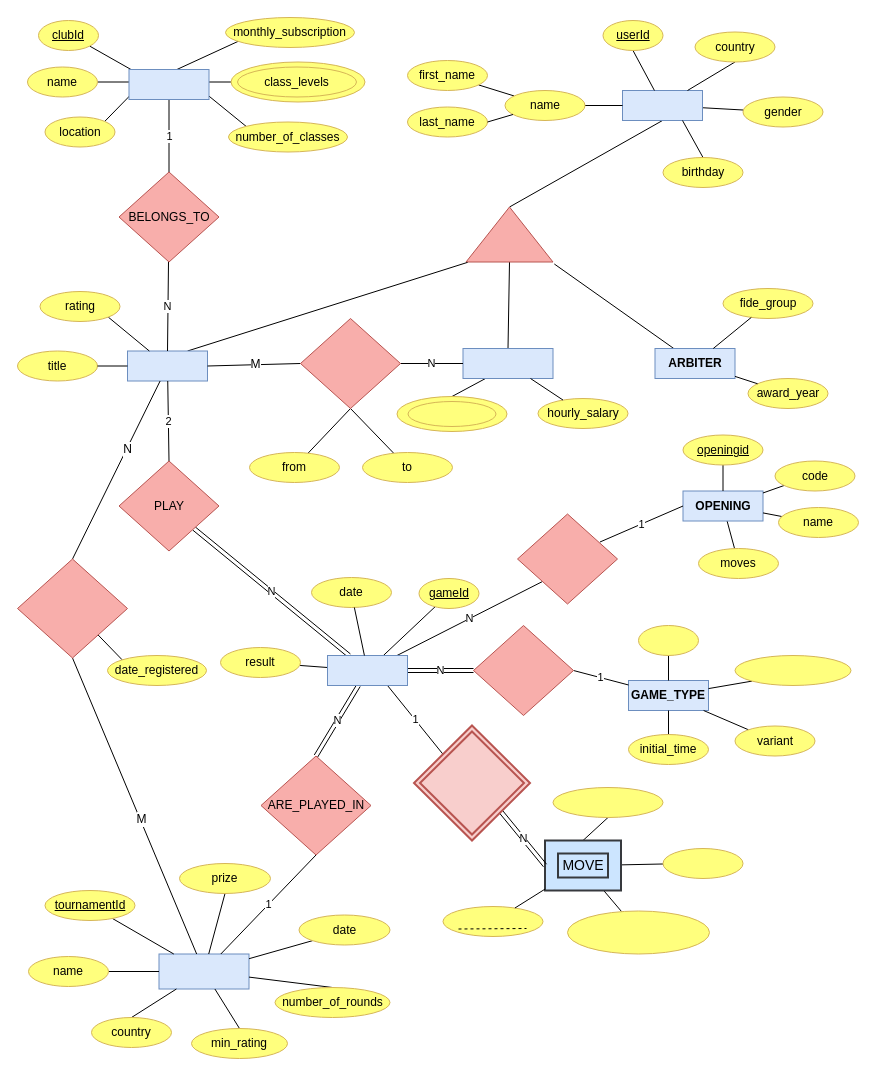
Some shapes in this 876 by 1076 pixel diagram are drawn without their labels. The centre of each missing label's shape, as x and y in pixels:
ARE_OF_TYPE: the point at 523,670
black_move: the point at 702,863
CLUB: the point at 168,84
GAME: the point at 367,670
INSTRUCTOR: the point at 507,363
IS_TRAINED_BY: the point at 350,363
IS_TYPE: the point at 509,234
move_number: the point at 492,921
PLAYED_WITH: the point at 471,782
PLAYER: the point at 167,365
REGISTERED_IN: the point at 72,608
specialty: the point at 451,413
START_WITH: the point at 567,558
time_inc_per_move: the point at 792,670
total_remaining_pieces: the point at 638,932
TOURNAMENT: the point at 203,971
typeId: the point at 668,640
USER: the point at 662,105
white_move: the point at 607,802
